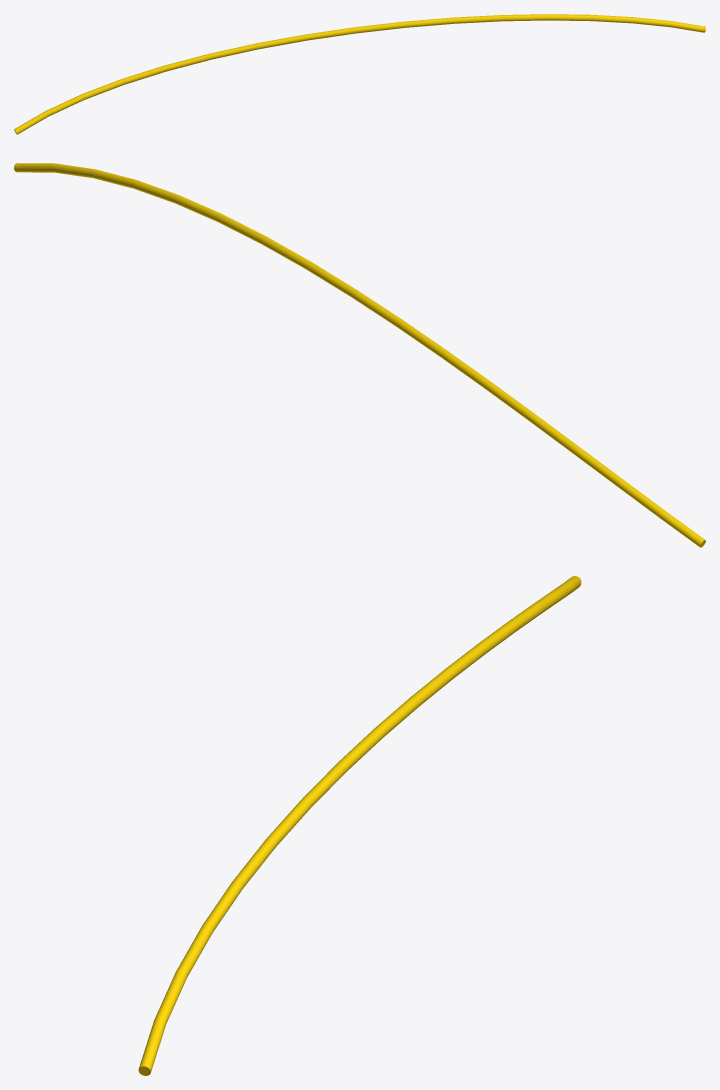
The model's file is Event_421115418_track_97.fbx.
3 views of the same model, one above another, from view 1: azimuth 30°, elevation 25°; view 2: azimuth 150°, elevation 25°; view 3: azimuth 270°, elevation 25° (orthographic). The views are drawn at different scales.
Parts seen in each view (by area): view 1: Model; view 2: Model; view 3: Model.
Part boxes in pixels (x1,y1,x2,y2): Model: [14, 14, 705, 134]; Model: [14, 163, 705, 547]; Model: [138, 576, 581, 1075].
Bounding box in the file's own units: 4.22 × 0.5235 × 1.39.
